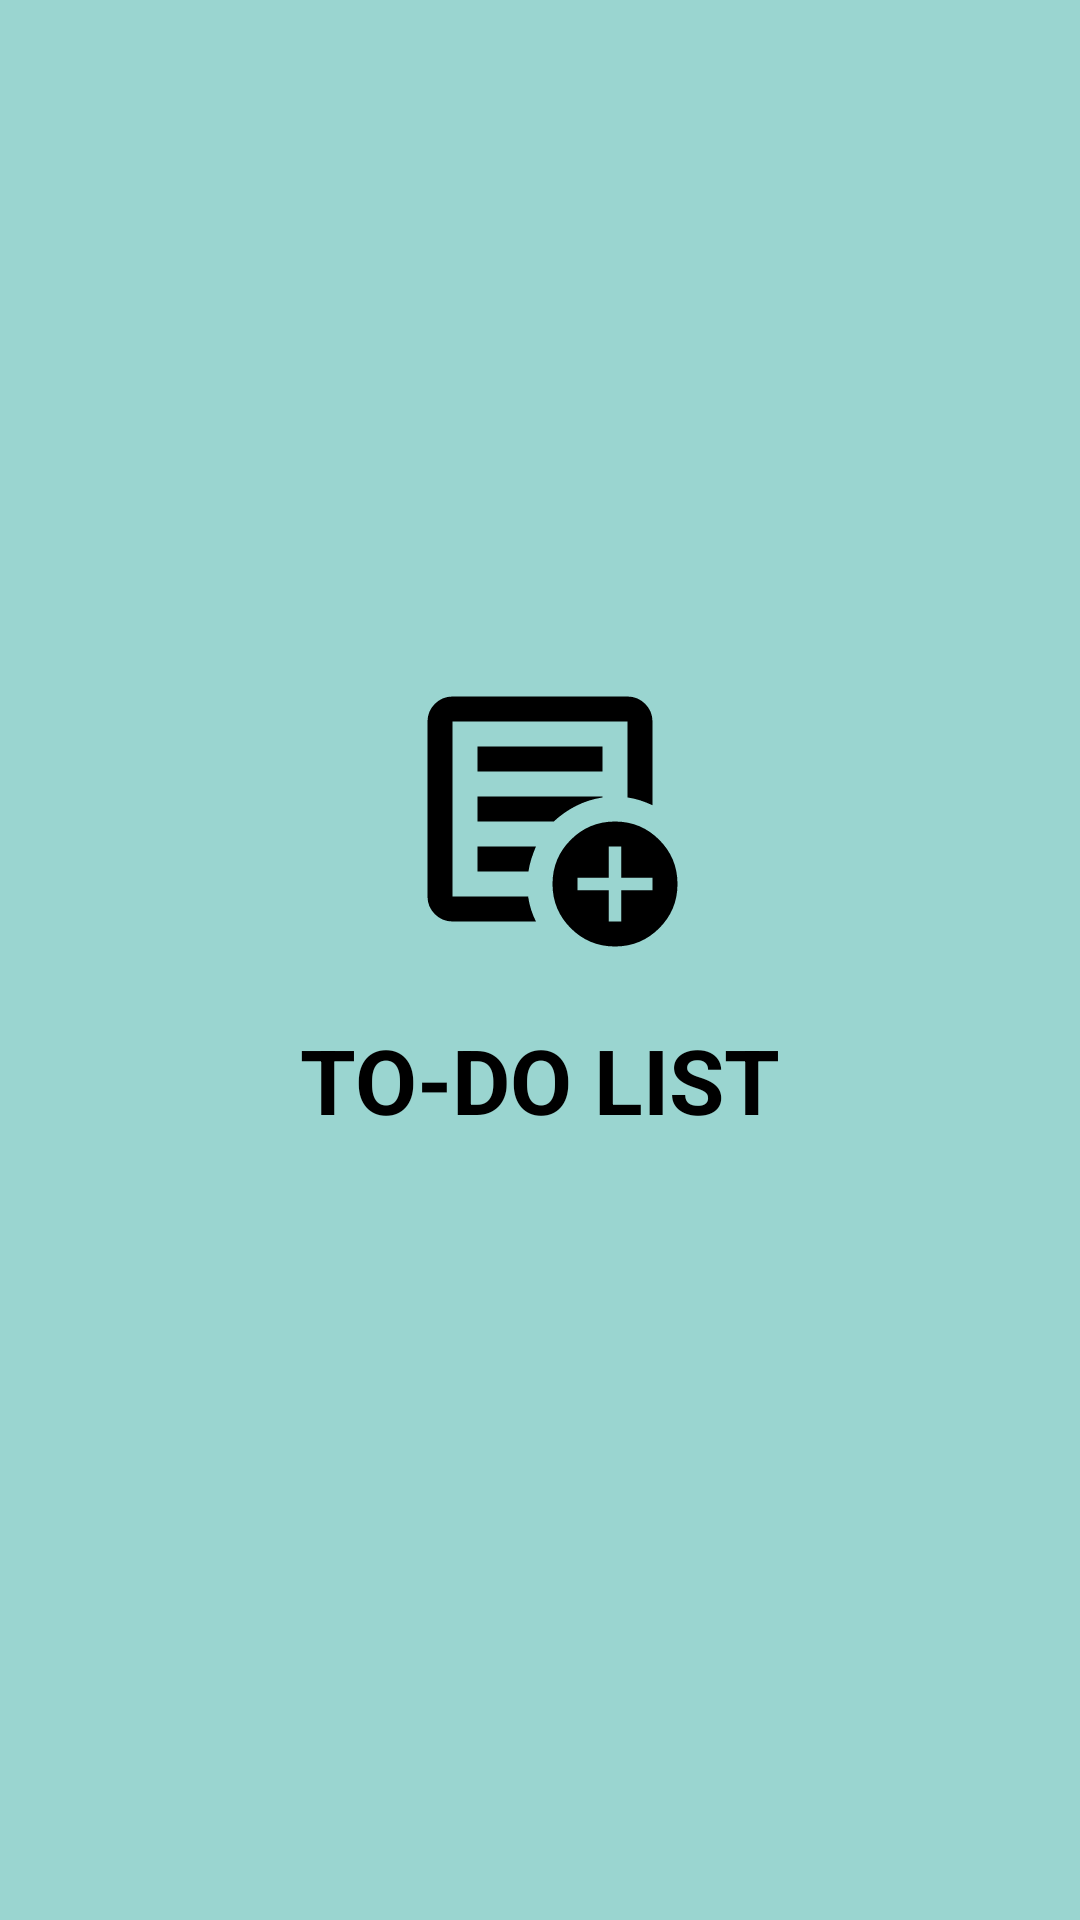

Screen size 1080 × 1920. Icon name, then its center in pixels as (x=x, y=y):
notes: (x=552, y=821)
